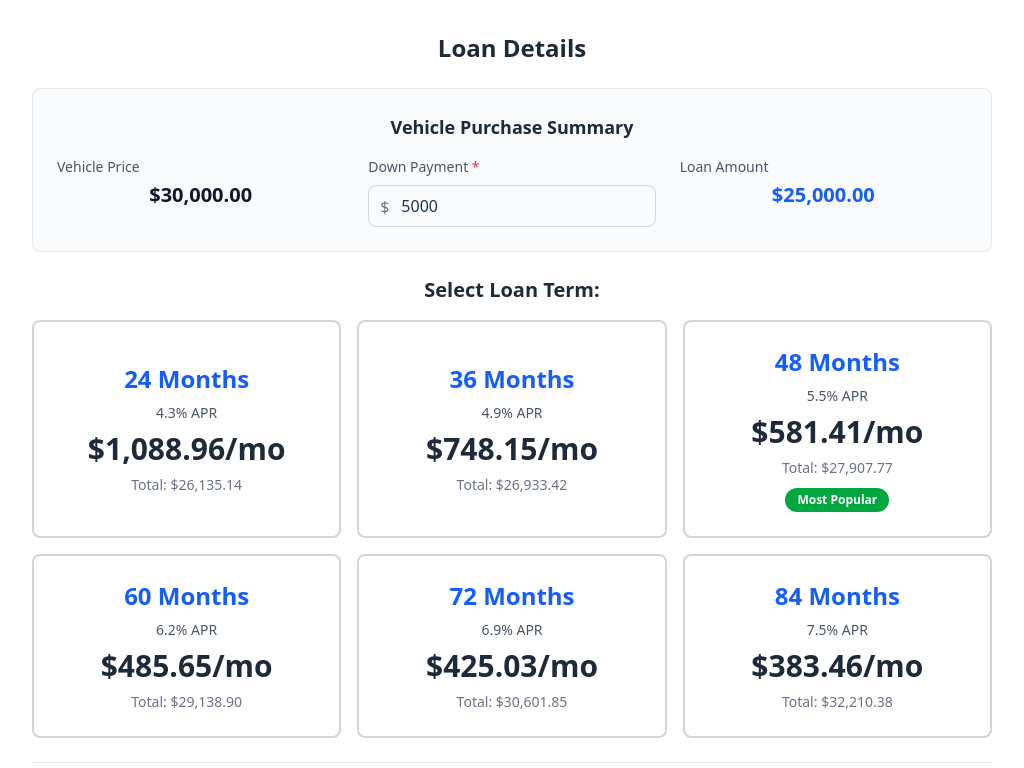
Test: LoanDetails Component › Down Payment Input › should show validation error when down payment exceeds vehicle price
Replace the text in the number field labelled "Down Payment *" with "35000" at (512, 206), box [368,185,656,227]
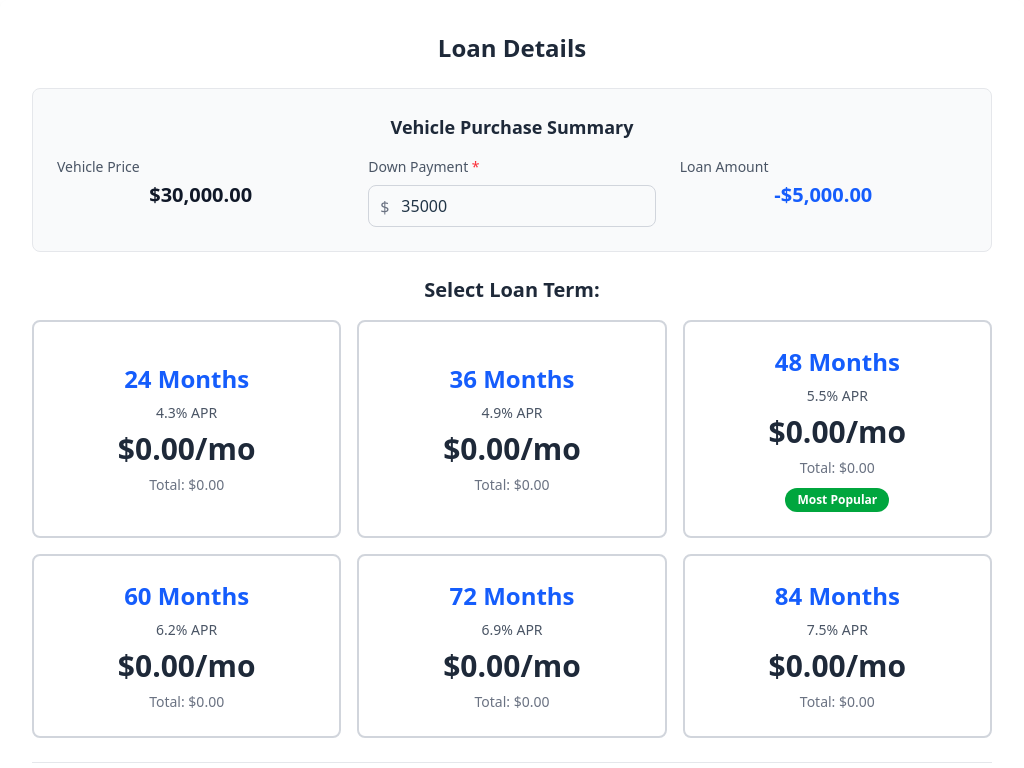
Leave the number field labelled "Down Payment *", box [368,185,656,227]
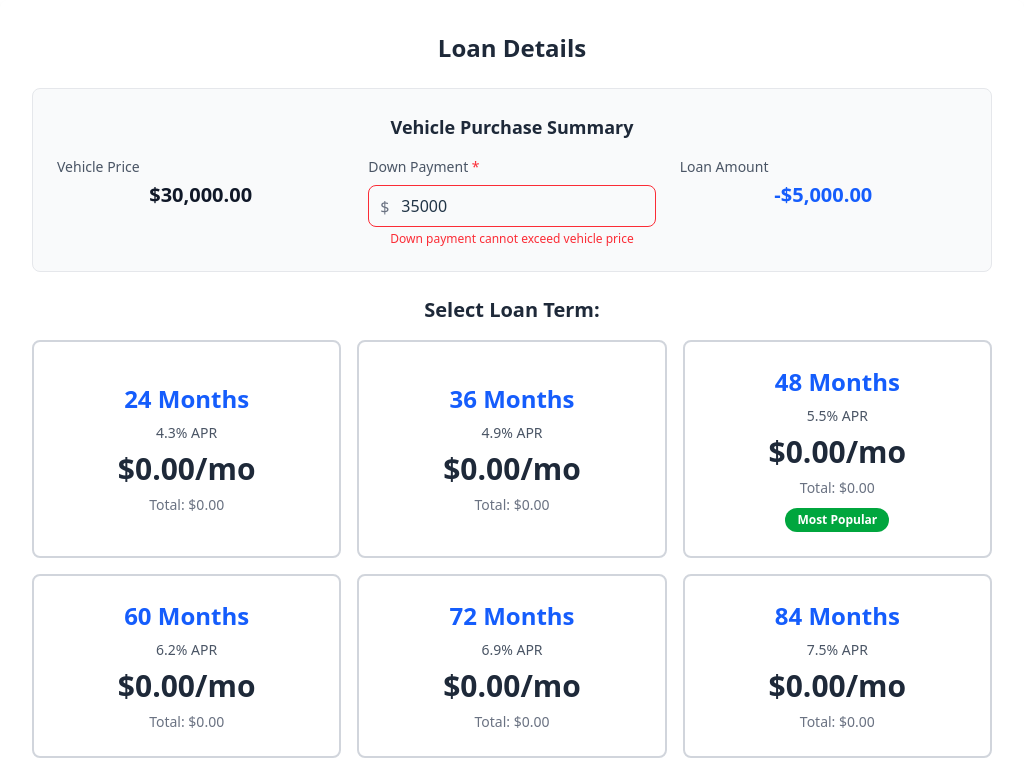
expect the text "Down payment cannot exceed vehicle price" is shown: met, box [390,230,634,247]
